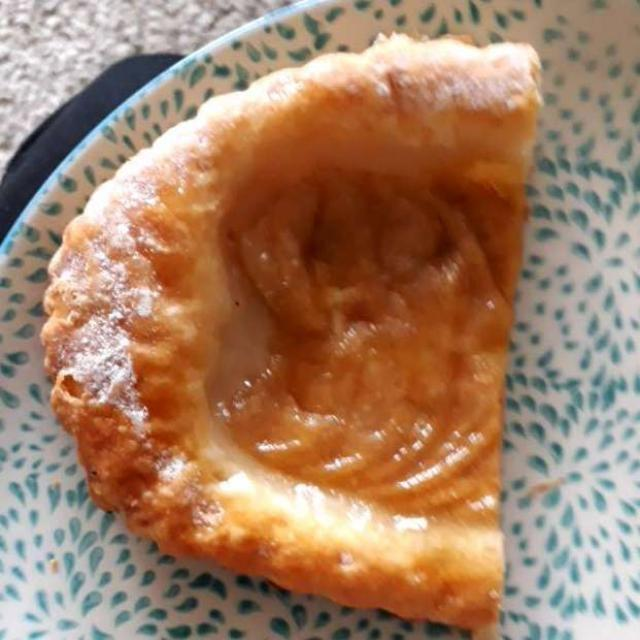apple-pie: (47, 40, 537, 613)
